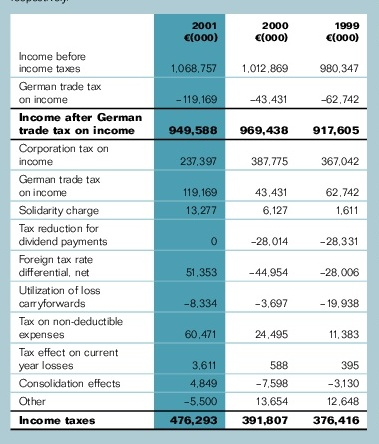table: (0, 0, 379, 444)
